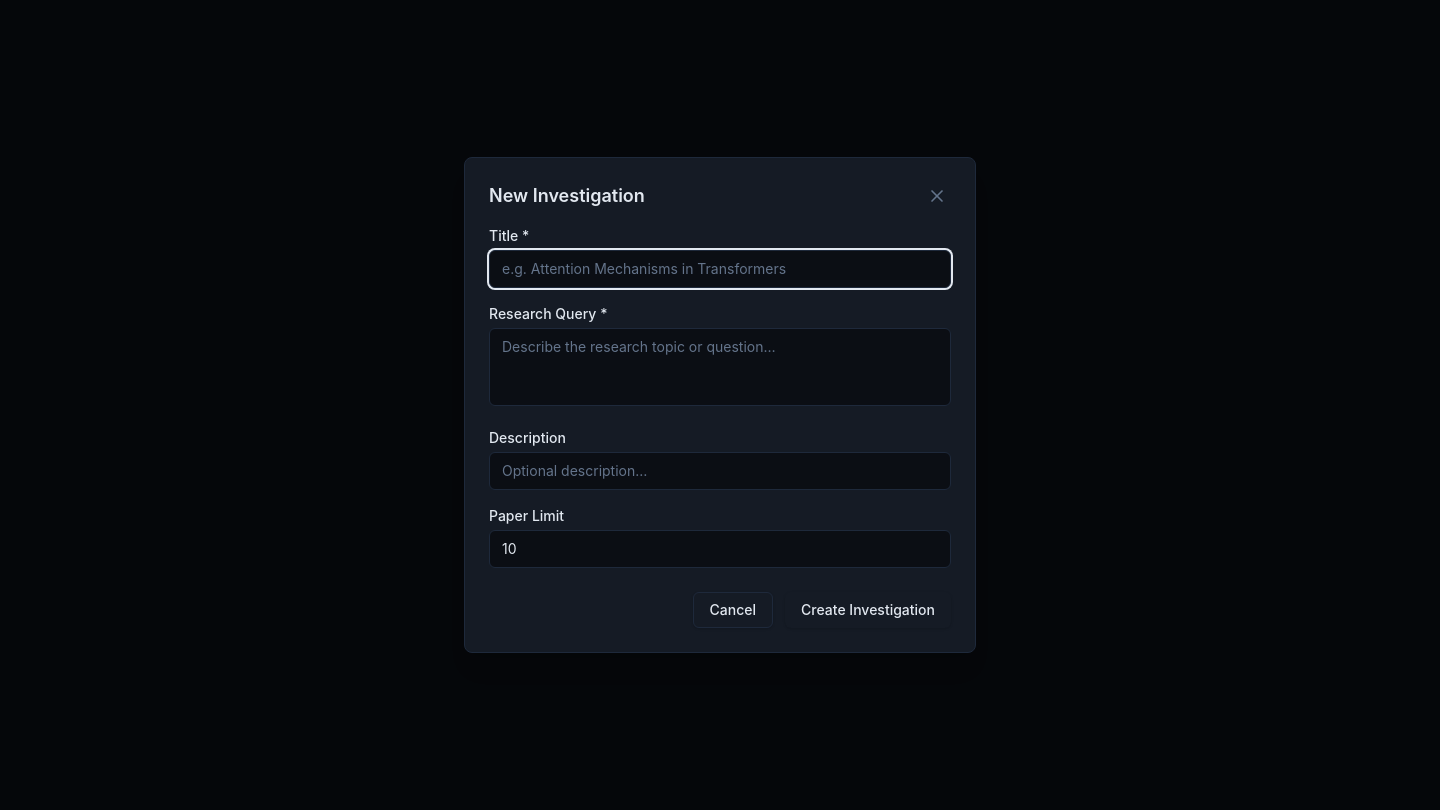
it: NewInvestigationDialog › shows validation errors when submitting empty form
Click the button "Create Investigation" at [868, 610], box left=785, top=592, right=951, bottom=628
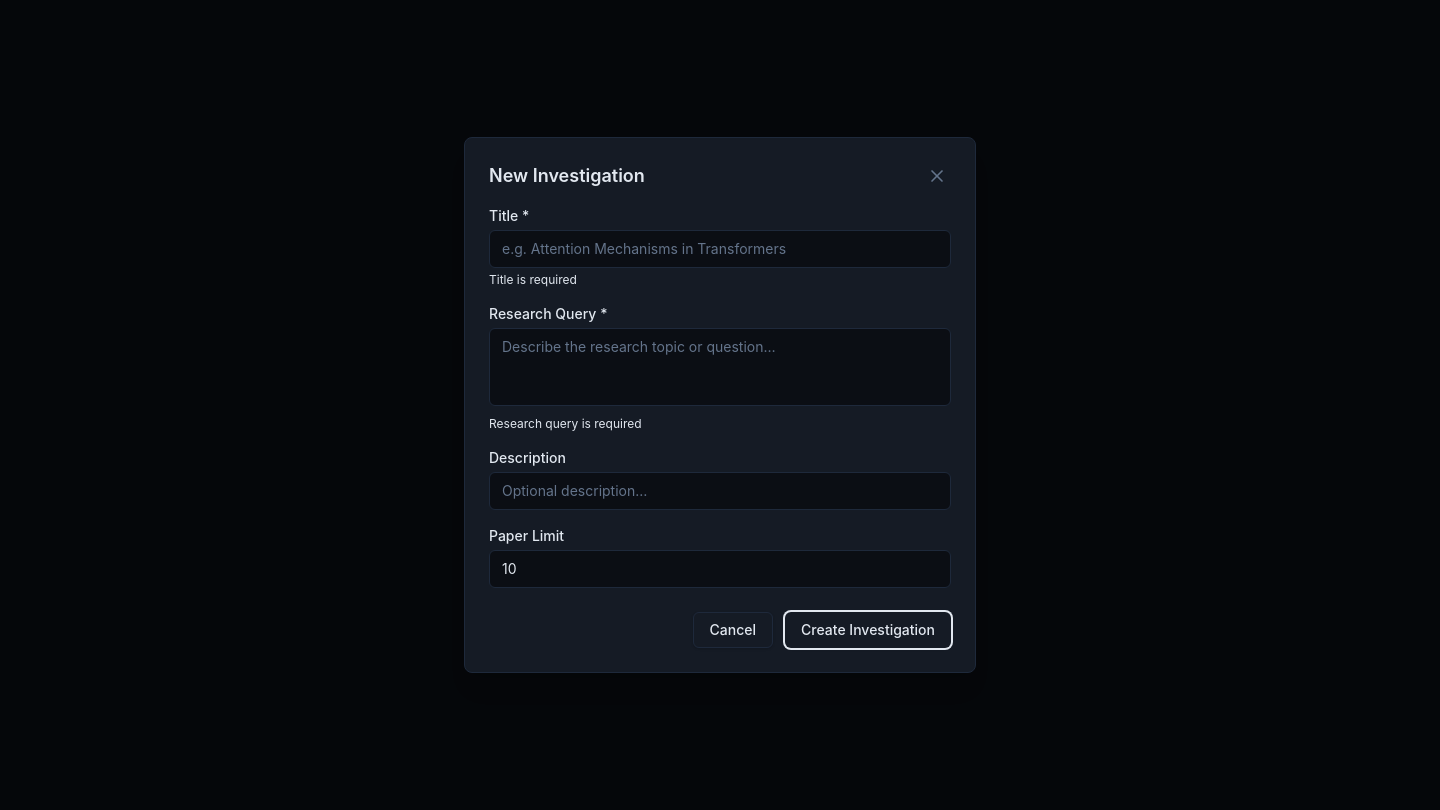
Result: the text "Title is required" is shown at left=489, top=272, right=577, bottom=287
Result: the text "Research query is required" is shown at left=489, top=416, right=642, bottom=431
